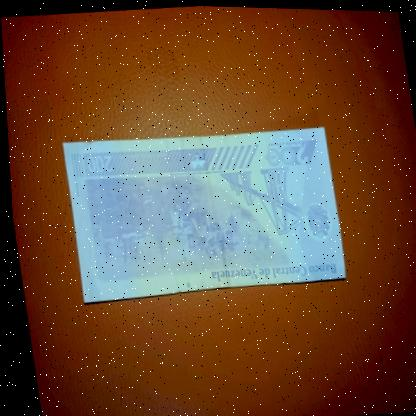two_hundred-back-vef: (58, 119, 347, 310)
